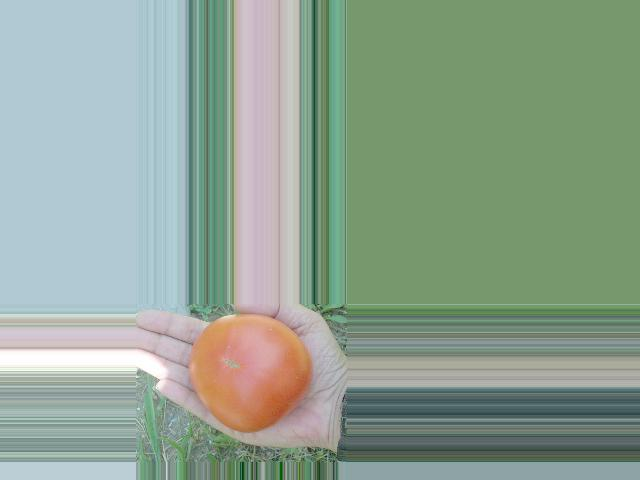tomato: (189, 314, 310, 433)
